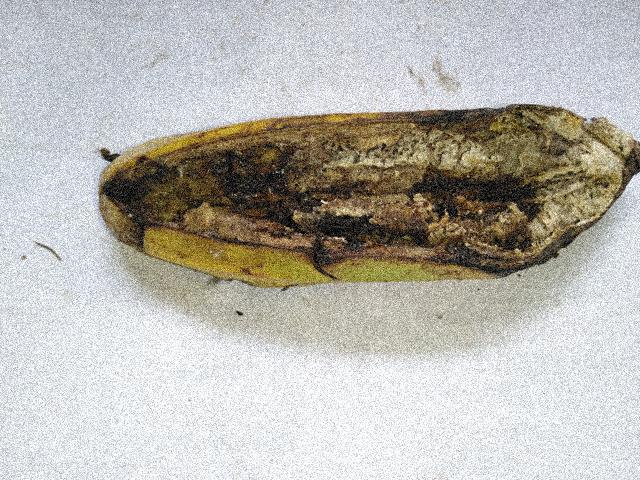rotten: (94, 64, 639, 292)
